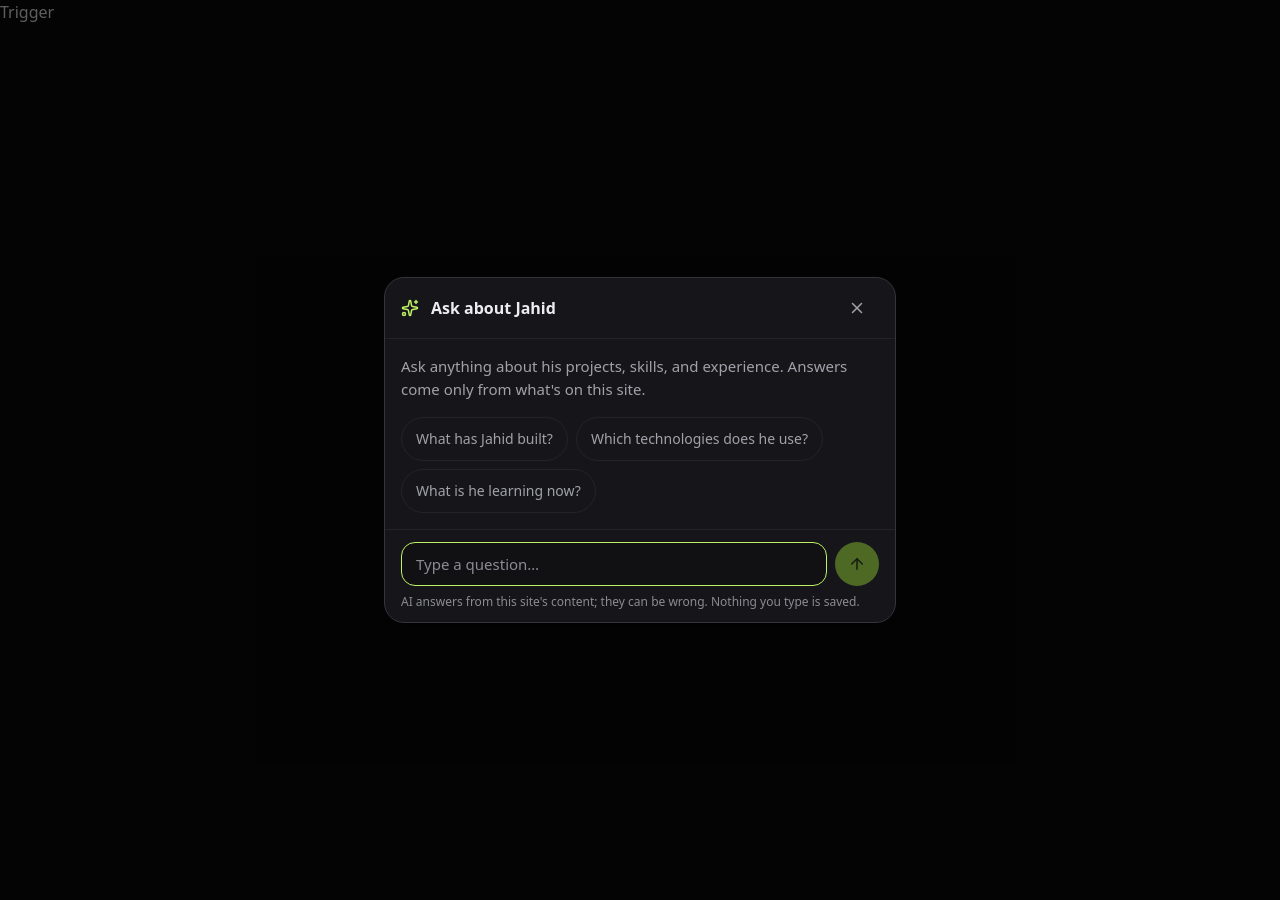
Ask about Jahid › shows the server's message inline when it can't answer
Click the button "What has Jahid built?" at coordinates (484, 439), box [401,417,568,461]
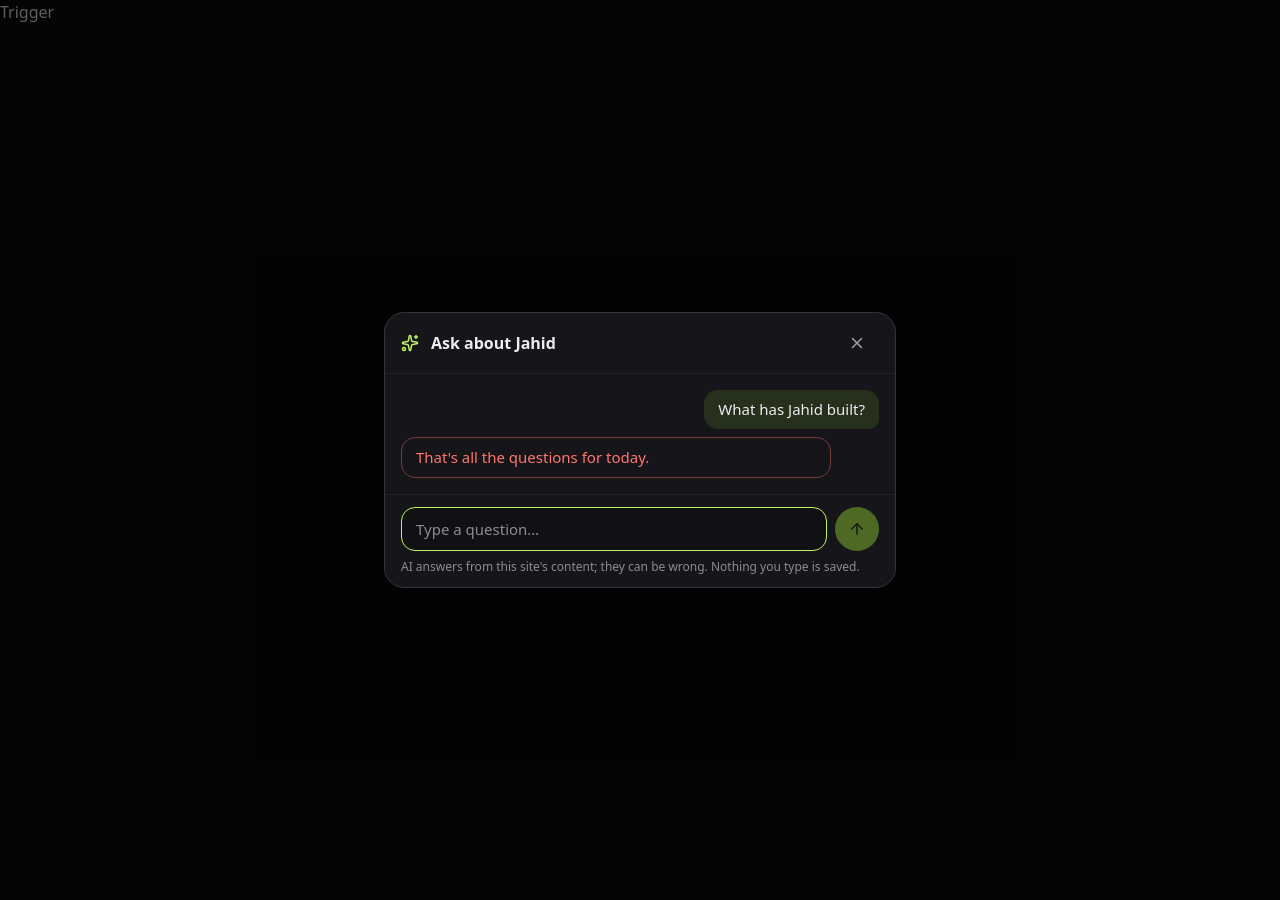
Result: the message reads "That's all the questions for today." at [416,447,649,467]
